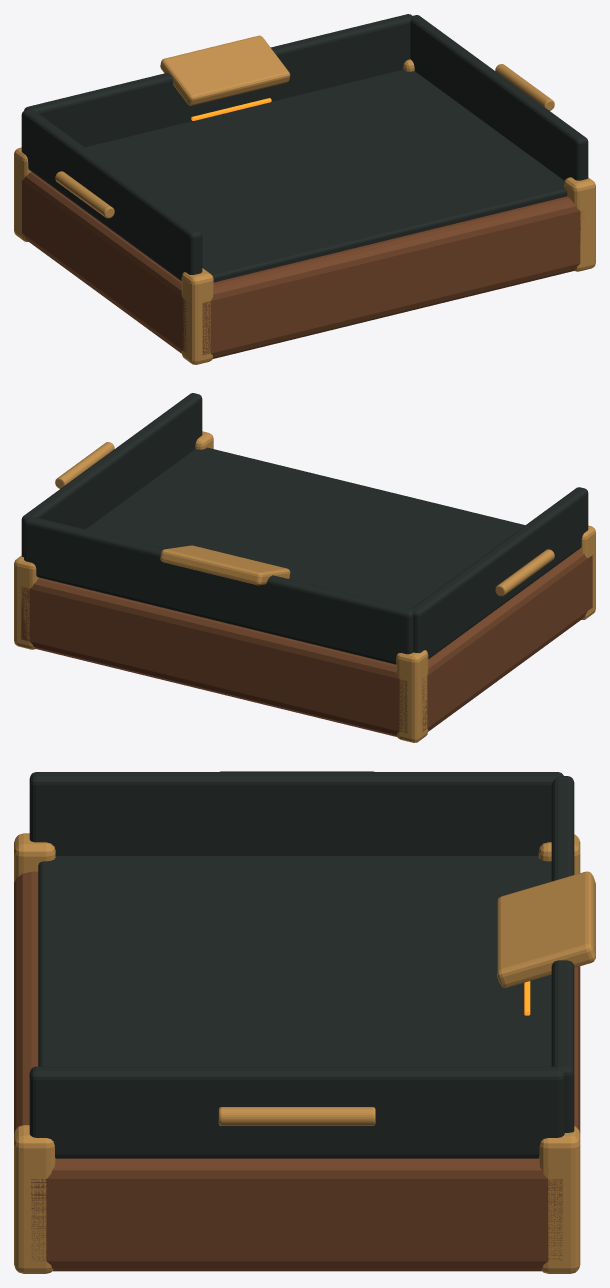
Rendered from hybrid-trash-tray-open.glb.
3 renders of one model, top to bottom at view 1: azimuth 30°, elevation 25°; view 2: azimuth 150°, elevation 25°; view 3: azimuth 270°, elevation 25°, orthographic. The views are drawn at different scales.
Visible parts, largest first — view 1: Leather receiving surface, Walnut tray base, Back leather wall, Right leather wall, Left leather wall, Hinged brass warning flap, Brass tray corner, Brass tray corner.002, Brass tray corner.001, Brass side handle, Brass side handle.001; view 2: Walnut tray base, Leather receiving surface, Back leather wall, Left leather wall, Right leather wall, Hinged brass warning flap, Brass tray corner.001, Brass tray corner.003, Brass side handle, Brass side handle.001, Brass tray corner; view 3: Leather receiving surface, Walnut tray base, Right leather wall, Left leather wall, Hinged brass warning flap, Back leather wall, Brass tray corner.002, Brass tray corner.003, Brass side handle.001, Brass tray corner.
Boxes of the visible parts, box(x1,y1,x2,y2) form: Leather receiving surface: box(85, 70, 567, 282); Walnut tray base: box(22, 172, 582, 358); Back leather wall: box(24, 14, 412, 147); Right leather wall: box(410, 15, 588, 180); Left leather wall: box(21, 109, 202, 280); Hinged brass warning flap: box(160, 35, 290, 105); Brass tray corner: box(181, 268, 213, 364); Brass tray corner.002: box(564, 177, 595, 271); Brass tray corner.001: box(14, 147, 31, 241); Brass side handle: box(55, 171, 114, 218); Brass side handle.001: box(495, 64, 554, 110); Walnut tray base: box(21, 550, 592, 736); Leather receiving surface: box(86, 447, 525, 608); Back leather wall: box(24, 516, 413, 664); Left leather wall: box(411, 487, 588, 658); Right leather wall: box(21, 393, 202, 557); Hinged brass warning flap: box(160, 545, 290, 585); Brass tray corner.001: box(396, 650, 428, 742); Brass tray corner.003: box(14, 555, 38, 649); Brass side handle: box(495, 549, 554, 596); Brass side handle.001: box(55, 442, 114, 488); Brass tray corner: box(578, 525, 595, 619); Leather receiving surface: box(38, 856, 551, 1066); Walnut tray base: box(14, 871, 580, 1271); Right leather wall: box(29, 1066, 564, 1158); Left leather wall: box(29, 772, 563, 855); Hinged brass warning flap: box(497, 871, 595, 987); Back leather wall: box(551, 776, 574, 1132); Brass tray corner.002: box(14, 1125, 55, 1273); Brass tray corner.003: box(538, 1126, 580, 1273); Brass side handle.001: box(218, 1107, 375, 1125); Brass tray corner: box(14, 833, 55, 882).
Bounding box in the file's own units: 4.67 × 1.36 × 3.34.
